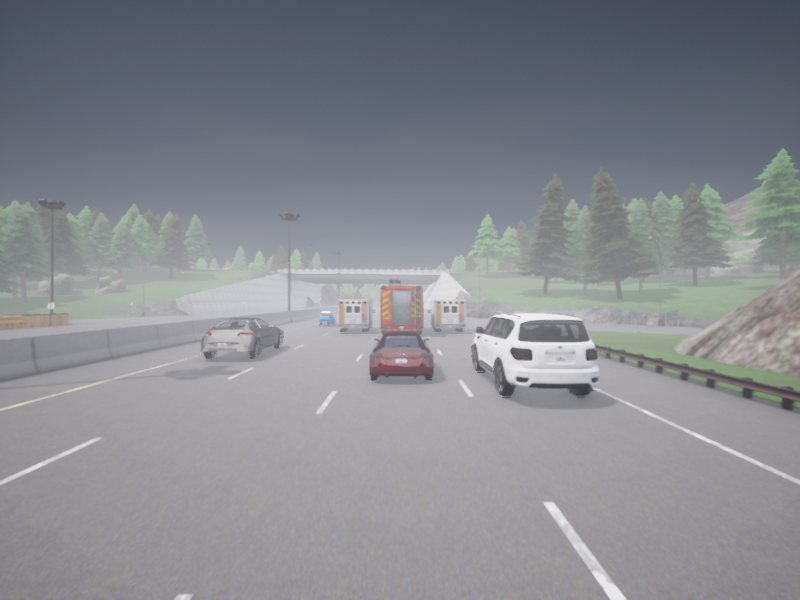vehicle: (472, 313, 599, 396), (201, 317, 283, 358), (369, 331, 433, 379), (380, 278, 422, 334), (337, 300, 375, 331), (428, 300, 465, 331), (319, 311, 335, 325)
